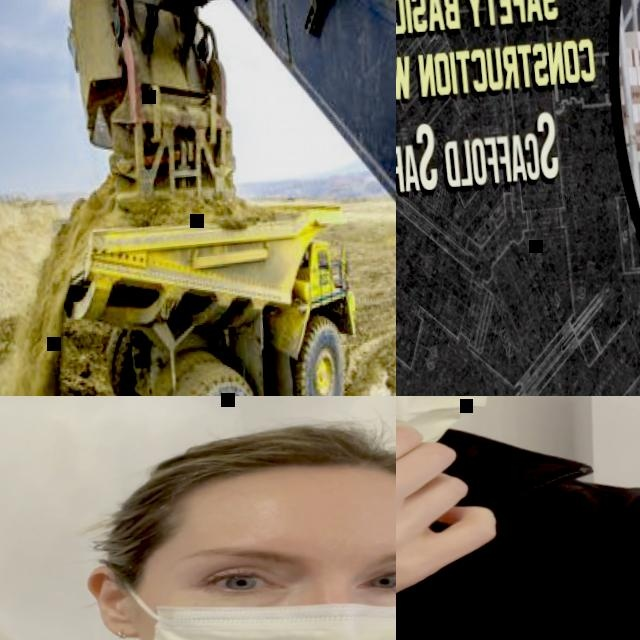Mask: (120, 544, 396, 640)
NO-Hardhat: (114, 415, 396, 538)
NO-Safety Vest: (396, 456, 640, 640)
Person: (0, 397, 396, 640), (396, 396, 640, 640)
machinery: (55, 0, 396, 396), (18, 185, 376, 396)
